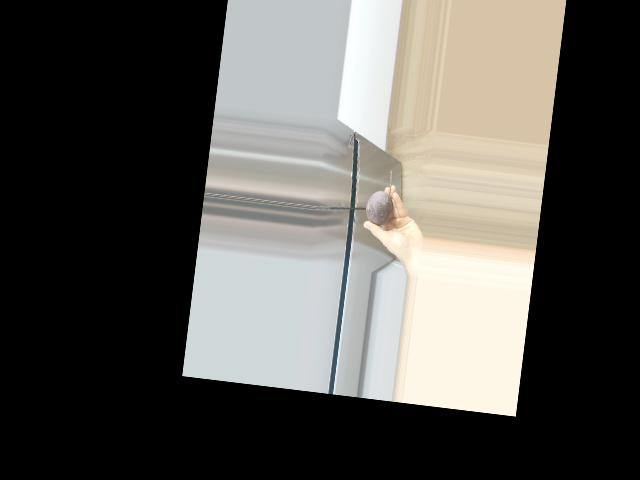beet: (364, 166, 397, 226)
